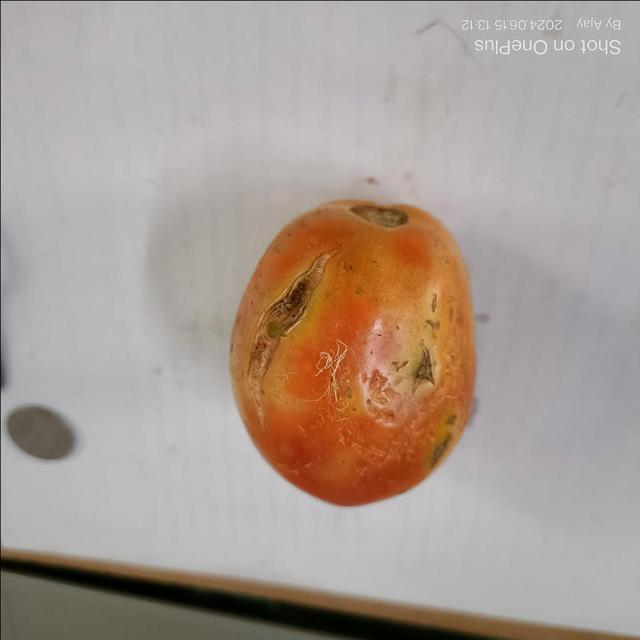Bacterial Spot Fruit: (17, 26, 288, 248)
